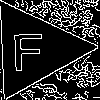F: (9, 24, 46, 71)
